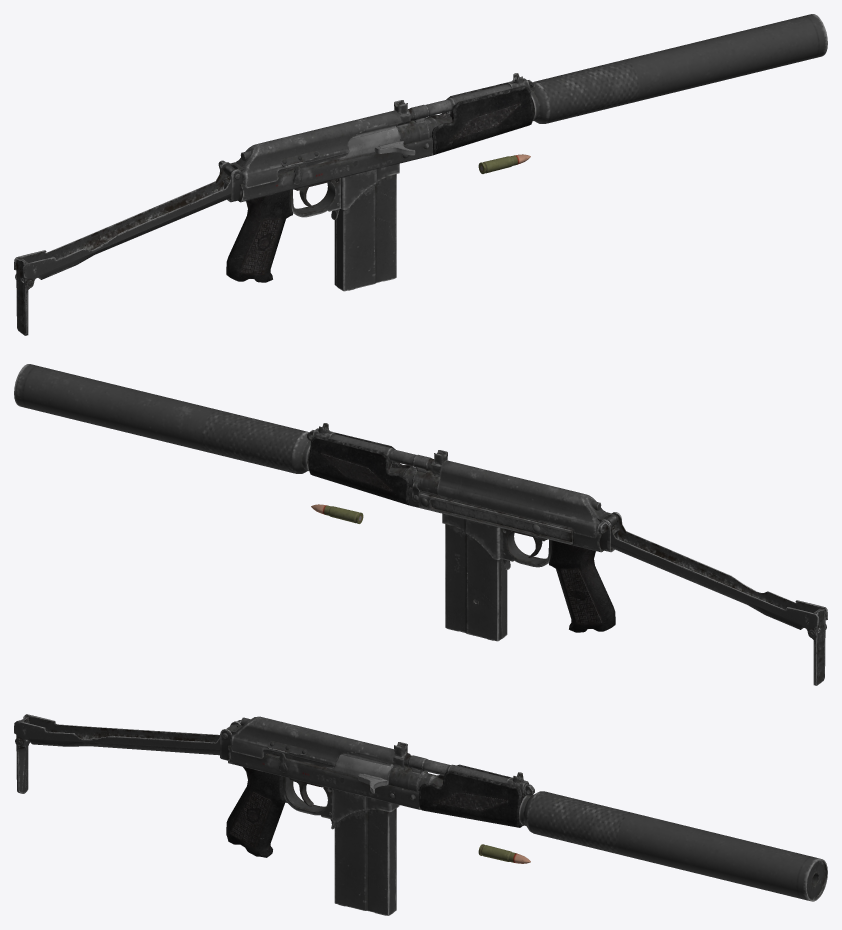
The picture shows the model from 3 angles, top to bottom: view 1: azimuth 30°, elevation 25°; view 2: azimuth 150°, elevation 25°; view 3: azimuth 330°, elevation 25°; orthographic projection.
Visible parts, largest first — view 1: silencer, mag_2, stock_3, base_44, base_2, base_45, base_49, base_50, base_3, base_11, base_18, base_29 (+3 smaller); view 2: silencer, base_44, mag_2, stock_3, base_2, base_49, base_43, base_50, base_3, base_11, base_29, butt (+3 smaller); view 3: silencer, mag_2, stock_3, base_44, base_2, base_45, base_49, base_50, base_3, base_11, base_18, base_29 (+4 smaller).
Boxes of the visible parts, box(x1,y1,x2,y2) form: silencer: box(529, 14, 827, 123); mag_2: box(334, 174, 396, 291); stock_3: box(14, 162, 240, 288); base_44: box(223, 110, 401, 188); base_2: box(426, 82, 533, 155); base_45: box(238, 137, 432, 202); base_49: box(226, 190, 293, 282); base_50: box(240, 219, 281, 273); base_3: box(335, 163, 399, 209); base_11: box(408, 84, 529, 122); base_18: box(337, 126, 400, 160); base_29: box(290, 178, 340, 217); silencer: box(14, 364, 312, 473); base_44: box(437, 460, 618, 538); mag_2: box(445, 524, 507, 641); stock_3: box(601, 512, 827, 638); base_2: box(308, 432, 415, 505); base_49: box(548, 540, 615, 632); base_43: box(418, 492, 572, 544); base_50: box(560, 569, 601, 623); base_3: box(442, 513, 506, 559); base_11: box(312, 434, 433, 472); base_29: box(500, 528, 551, 567); butt: box(812, 608, 825, 685); silencer: box(519, 791, 827, 901); mag_2: box(334, 808, 396, 915); stock_3: box(14, 714, 240, 755); base_44: box(228, 716, 394, 768); base_2: box(418, 764, 530, 827); base_45: box(228, 745, 420, 809); base_49: box(226, 767, 287, 857); base_50: box(229, 792, 270, 846); base_3: box(332, 789, 399, 822); base_11: box(404, 754, 529, 795); base_18: box(326, 755, 393, 784); base_29: box(283, 776, 332, 819).
Bounding box in the file's own units: 0.9623 × 0.1967 × 0.0664.
Materials: 5 (5 with a texture image).
